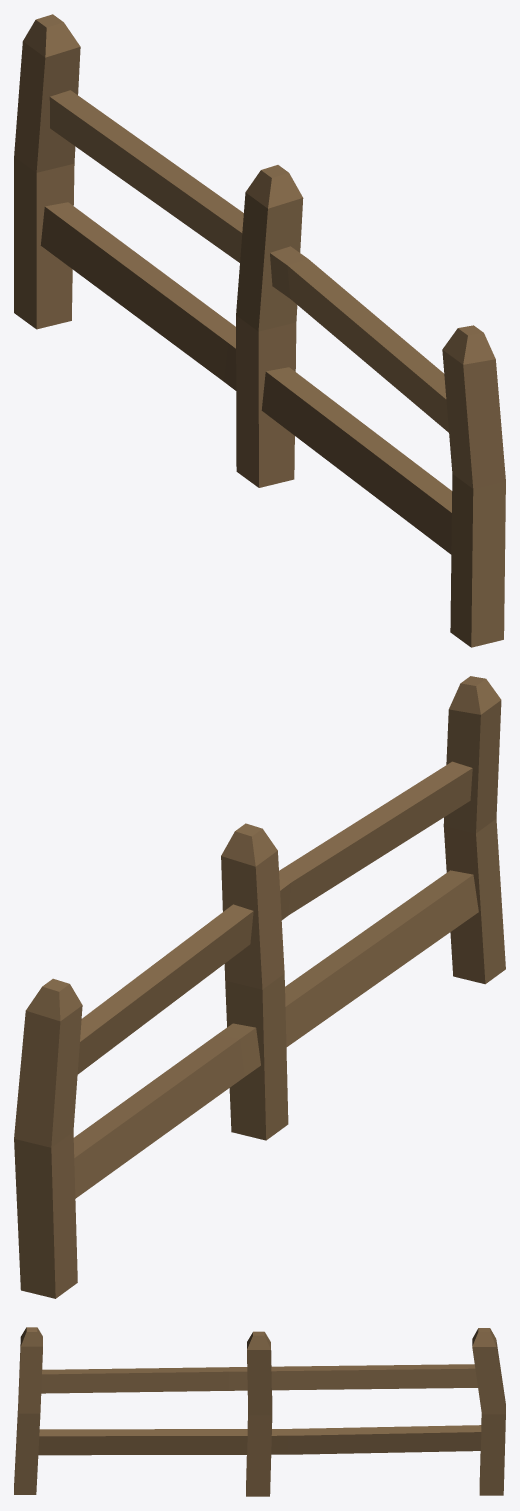
The model's file is fence.fbx.
The picture shows the model from 3 angles, top to bottom: view 1: azimuth 30°, elevation 25°; view 2: azimuth 150°, elevation 25°; view 3: azimuth 270°, elevation 25°; orthographic projection. The views are drawn at different scales.
Parts seen in each view (by area): view 1: fence; view 2: fence; view 3: fence.
Part boxes in pixels (x1,y1,x2,y2): fence: (14, 14, 505, 647); fence: (14, 676, 505, 1298); fence: (14, 1327, 505, 1496).
Size of the model in its own units: 32.14 by 181 by 500.
